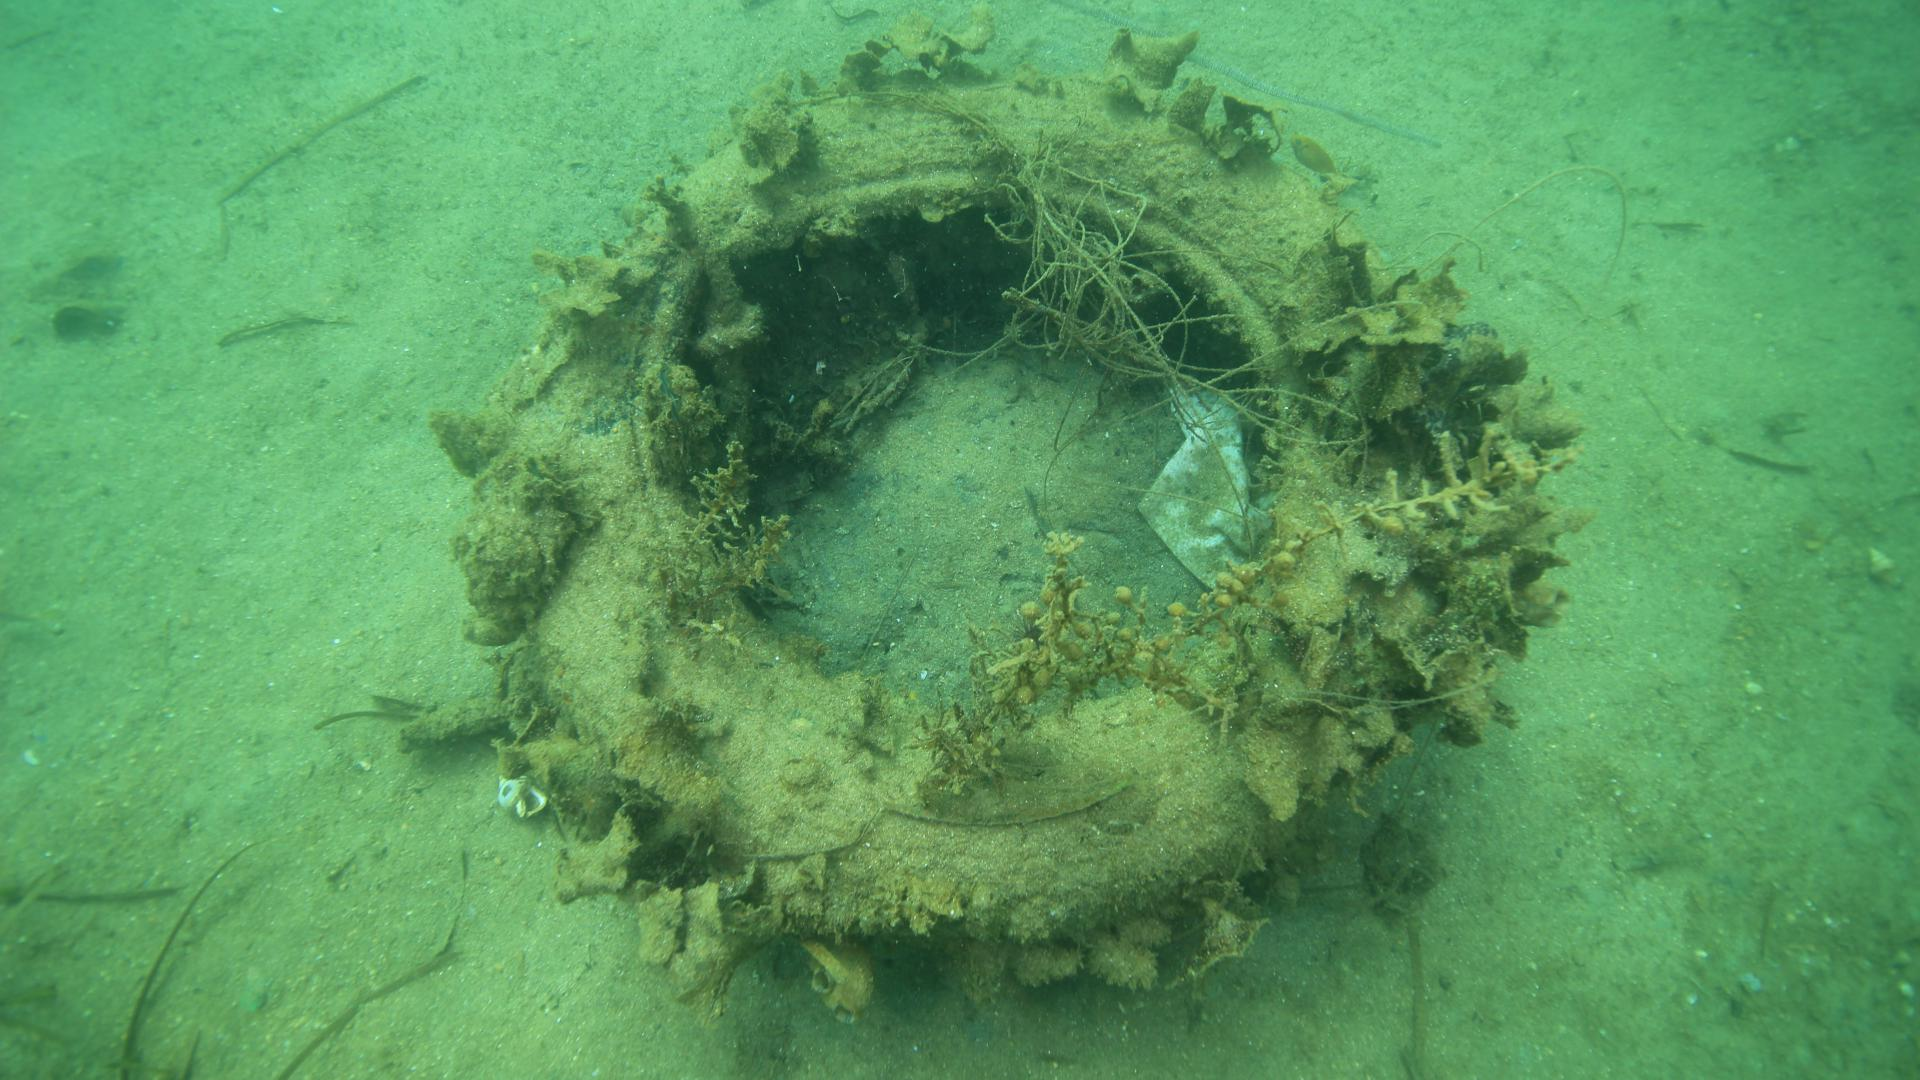tire: (498, 69, 1469, 955)
